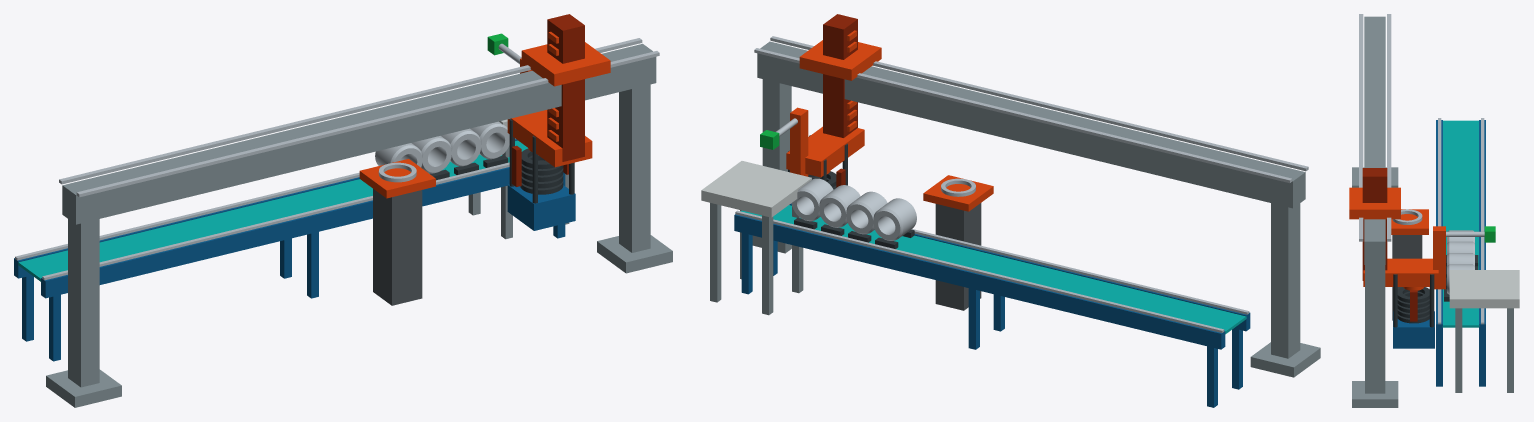
The model's file is bearing_feed_mirrored.dae.
3 renders of one model, left to right at view 1: azimuth 30°, elevation 25°; view 2: azimuth 150°, elevation 25°; view 3: azimuth 270°, elevation 25°, orthographic. The views are drawn at different scales.
Visible parts, largest first — view 1: bearing_feed_mirrored; view 2: bearing_feed_mirrored; view 3: bearing_feed_mirrored.
Boxes of the visible parts, left/top/right/bottom form: bearing_feed_mirrored: left=14, top=14, right=672, bottom=407; bearing_feed_mirrored: left=701, top=14, right=1320, bottom=407; bearing_feed_mirrored: left=1349, top=14, right=1519, bottom=407.
Bounding box in the file's own units: 5.1 × 1.58 × 2.05.
